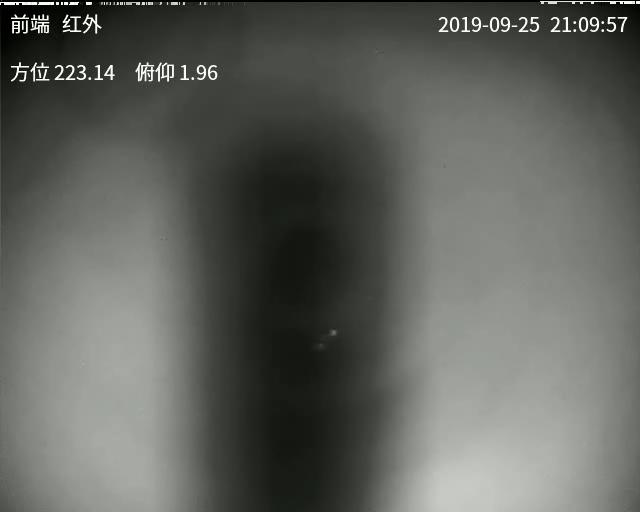uav: (294, 312, 341, 354)
